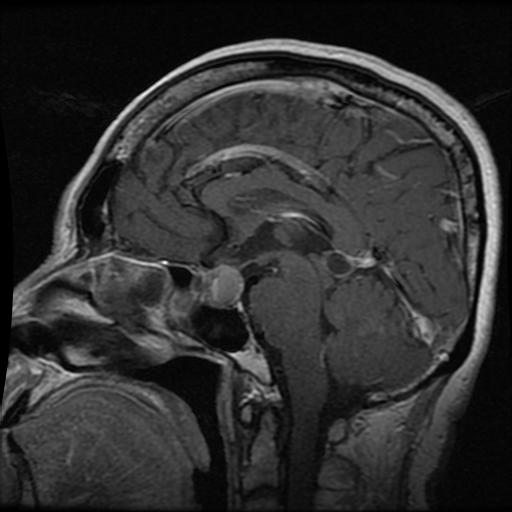Pituirity_tumour: (207, 265, 241, 304)
